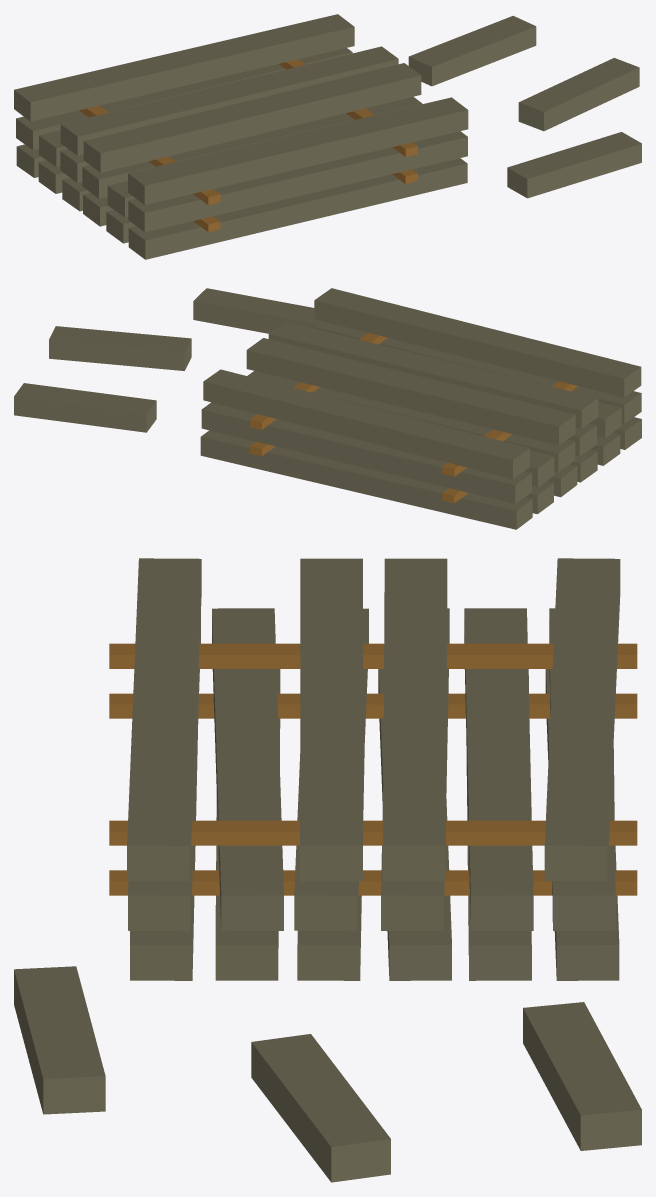
Rendered from SM_TraviesasSueltas_v4_Quemadas_LOD0.fbx.
3 renders of one model, top to bottom at view 1: azimuth 30°, elevation 25°; view 2: azimuth 150°, elevation 25°; view 3: azimuth 270°, elevation 25°, orthographic. The views are drawn at different scales.
Visible parts, largest first — view 1: SM_traviesas_sueltas_v4_LOD0; view 2: SM_traviesas_sueltas_v4_LOD0; view 3: SM_traviesas_sueltas_v4_LOD0.
Part boxes in pixels (box(x1,y1,x2,y2)): SM_traviesas_sueltas_v4_LOD0: box(14, 14, 641, 259); SM_traviesas_sueltas_v4_LOD0: box(14, 288, 641, 529); SM_traviesas_sueltas_v4_LOD0: box(14, 558, 641, 1182).
Bounding box in the file's own units: 4.44 × 0.57 × 2.4.
